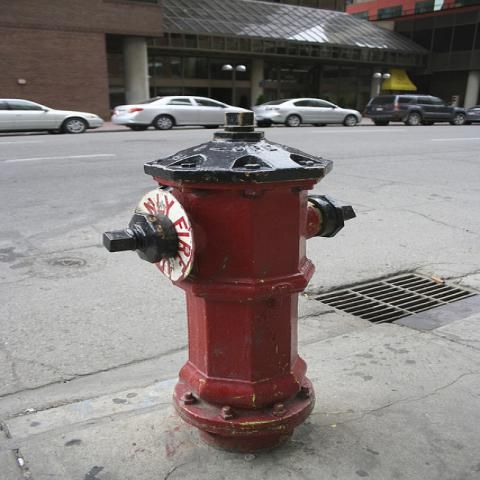car: (112, 96, 248, 130), (0, 96, 110, 134), (362, 94, 469, 126), (251, 98, 363, 127), (465, 105, 479, 125)
